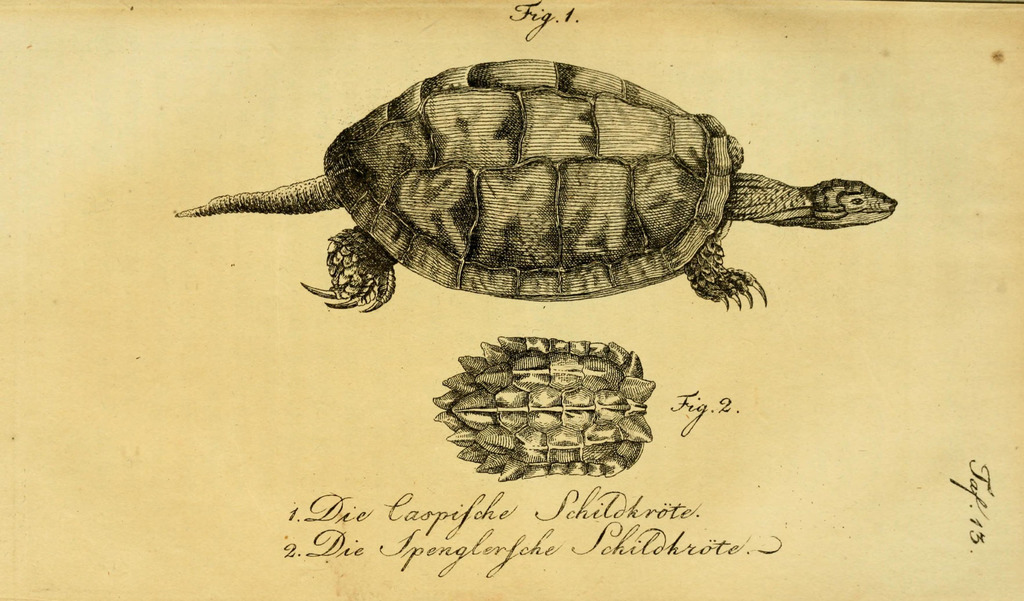Sea turtles: (167, 51, 899, 315)
